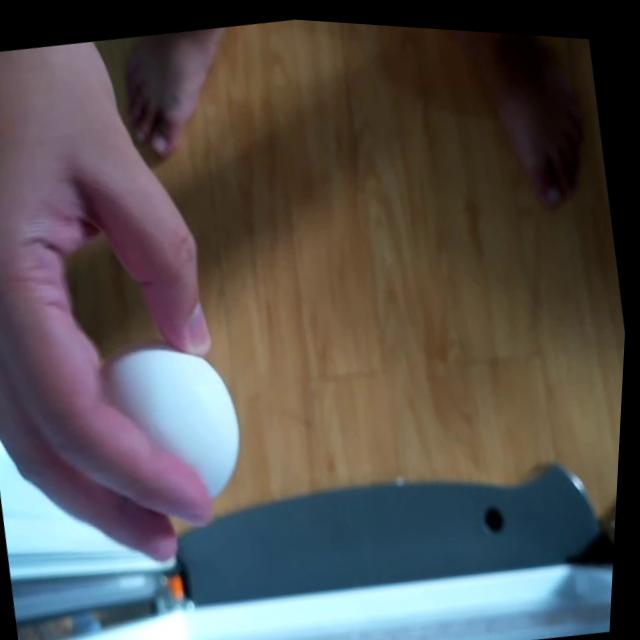egg: (92, 331, 259, 521)
